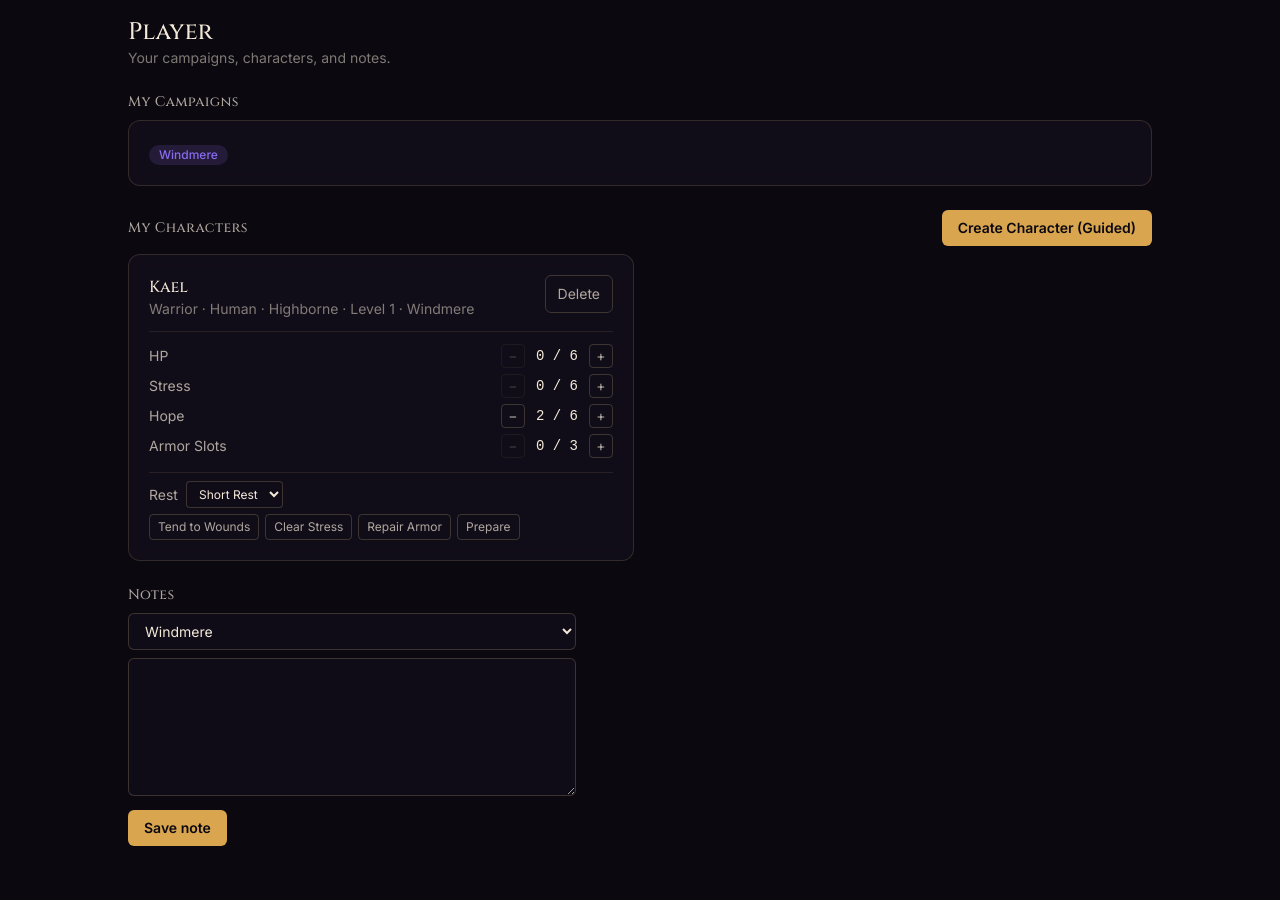
Test: PlayerPage › shows rest controls and applies a move when downtime is enabled
The width and height of the screenshot is (1280, 900).
Expected: the text "Kael" is shown, [149,276,188,298]
Click the button "Tend to Wounds": (204, 527) [149,514,259,540]
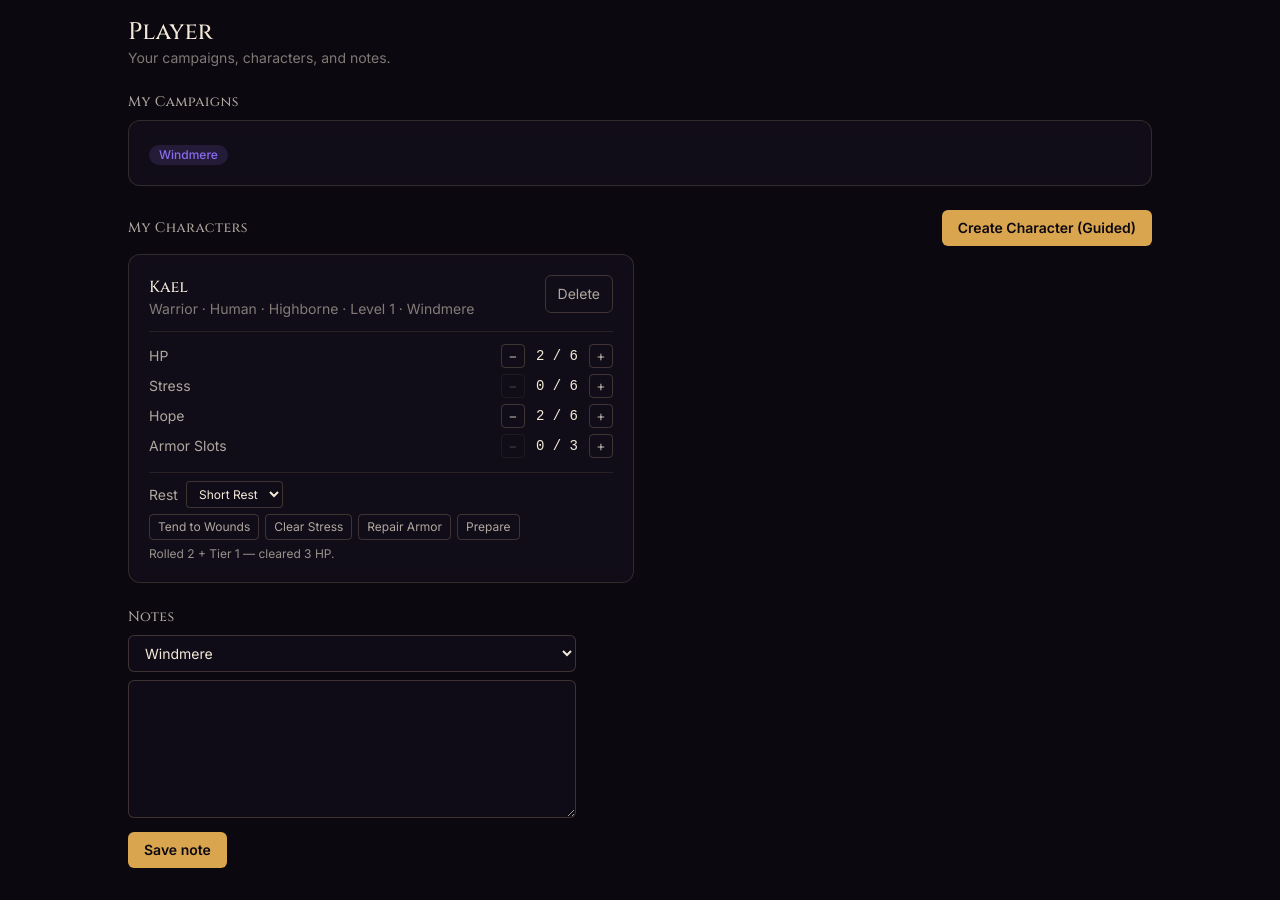
Now the text "Rolled 2 + Tier 1 — cleared 3 HP." is shown, box [149,546,334,561]
